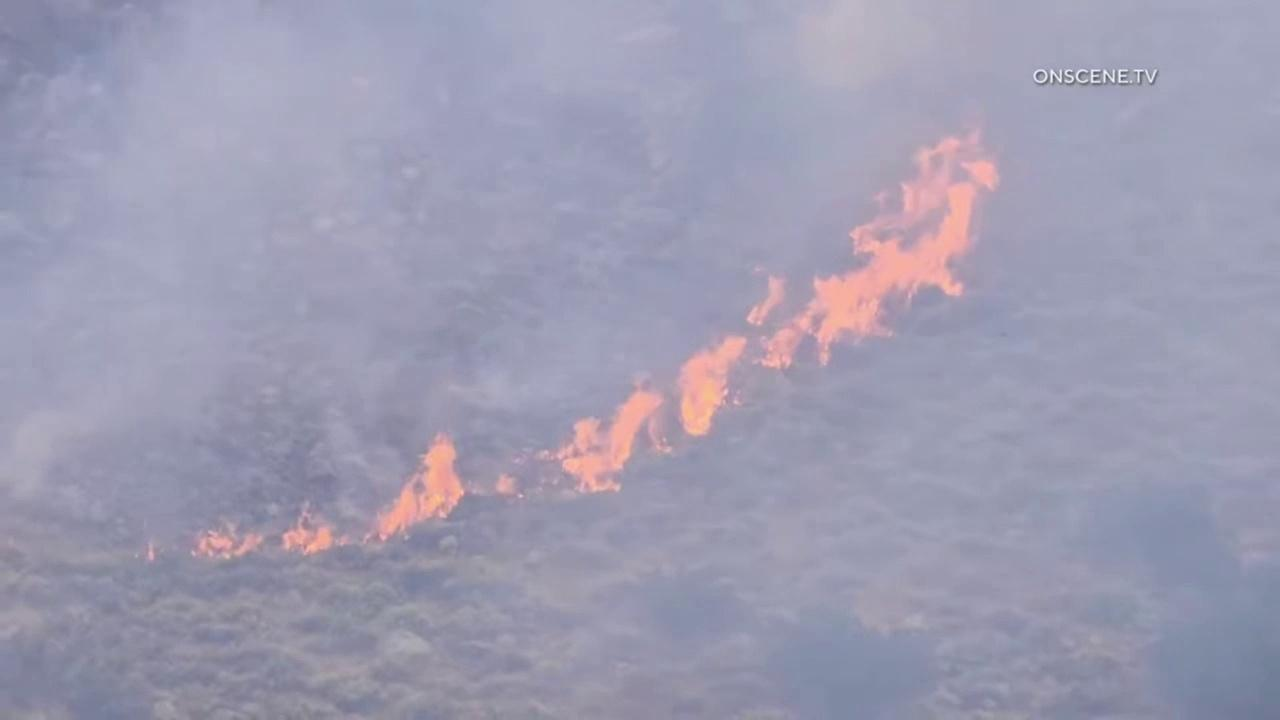fire: (128, 106, 1006, 581)
smoke: (0, 0, 1280, 720)
